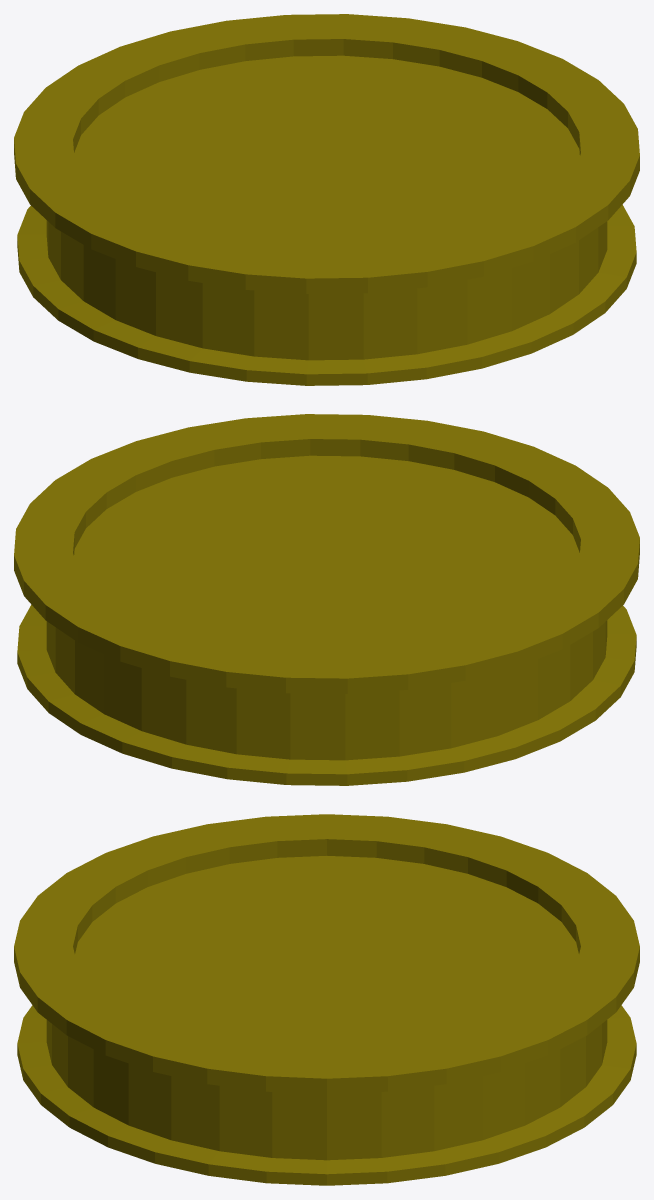
Rendered from coin.fbx.
3 renders of one model, top to bottom at view 1: azimuth 30°, elevation 25°; view 2: azimuth 150°, elevation 25°; view 3: azimuth 270°, elevation 25°, orthographic.
Visible parts, largest first — view 1: Circle; view 2: Circle; view 3: Circle.
Boxes of the visible parts, left/top/right/bottom form: Circle: left=14, top=14, right=639, bottom=385; Circle: left=14, top=414, right=639, bottom=785; Circle: left=14, top=814, right=639, bottom=1185.
Bounding box in the file's own units: 213 × 40.73 × 213.
